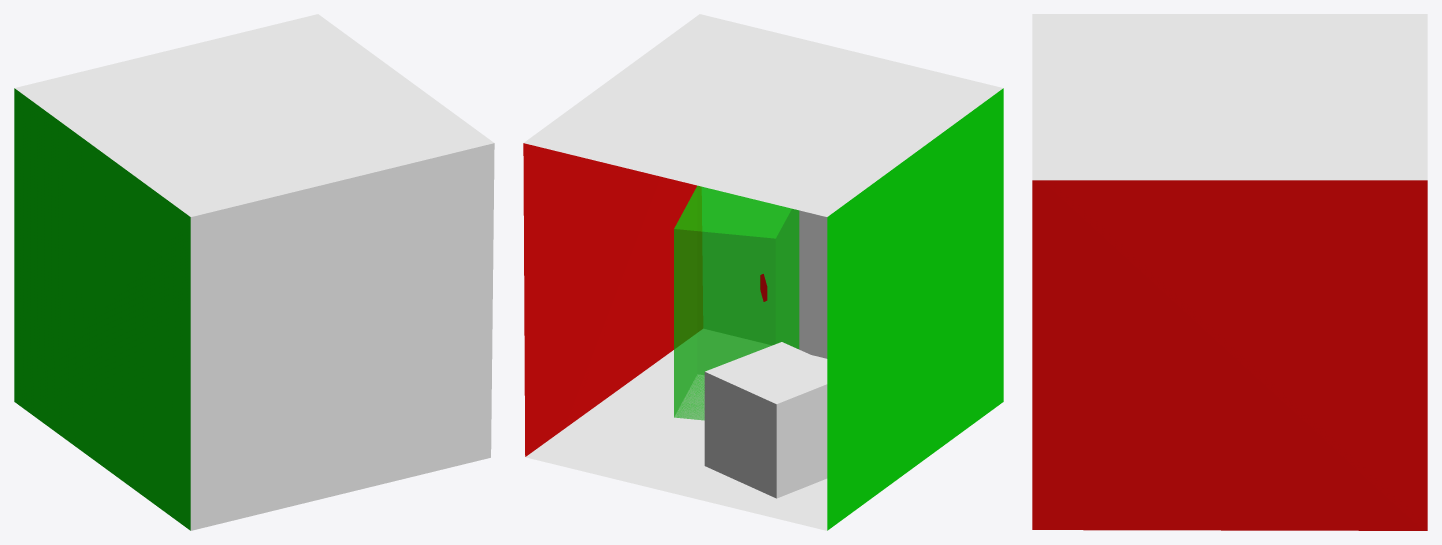
The picture shows the model from 3 angles, left to right: view 1: azimuth 30°, elevation 25°; view 2: azimuth 150°, elevation 25°; view 3: azimuth 270°, elevation 25°; orthographic projection. The views are drawn at different scales.
Parts seen in each view (by area): view 1: ceiling; view 2: ceiling; view 3: ceiling.
Boxes of the visible parts, box(x1,y1,x2,y2) form: ceiling: box(14, 14, 494, 530); ceiling: box(523, 14, 1003, 530); ceiling: box(1032, 14, 1427, 530).
Bounding box in the file's own units: 5.56 × 5.49 × 5.59.
